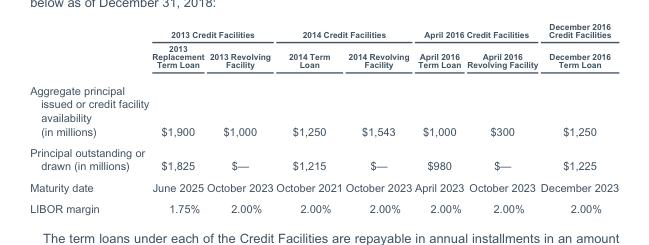table: (29, 29, 618, 214)
table column: (29, 29, 149, 214), (538, 29, 618, 214), (464, 29, 538, 214), (273, 29, 343, 214), (204, 29, 273, 214), (343, 29, 412, 214), (149, 29, 204, 214), (412, 29, 464, 214)
table column header: (29, 29, 618, 76)
table row: (29, 76, 618, 141), (29, 40, 618, 76), (29, 141, 618, 176), (29, 176, 618, 197), (29, 197, 618, 214), (29, 29, 618, 40)
table spanning cell: (538, 29, 618, 76), (273, 29, 412, 40), (412, 29, 538, 40), (149, 29, 273, 40)
